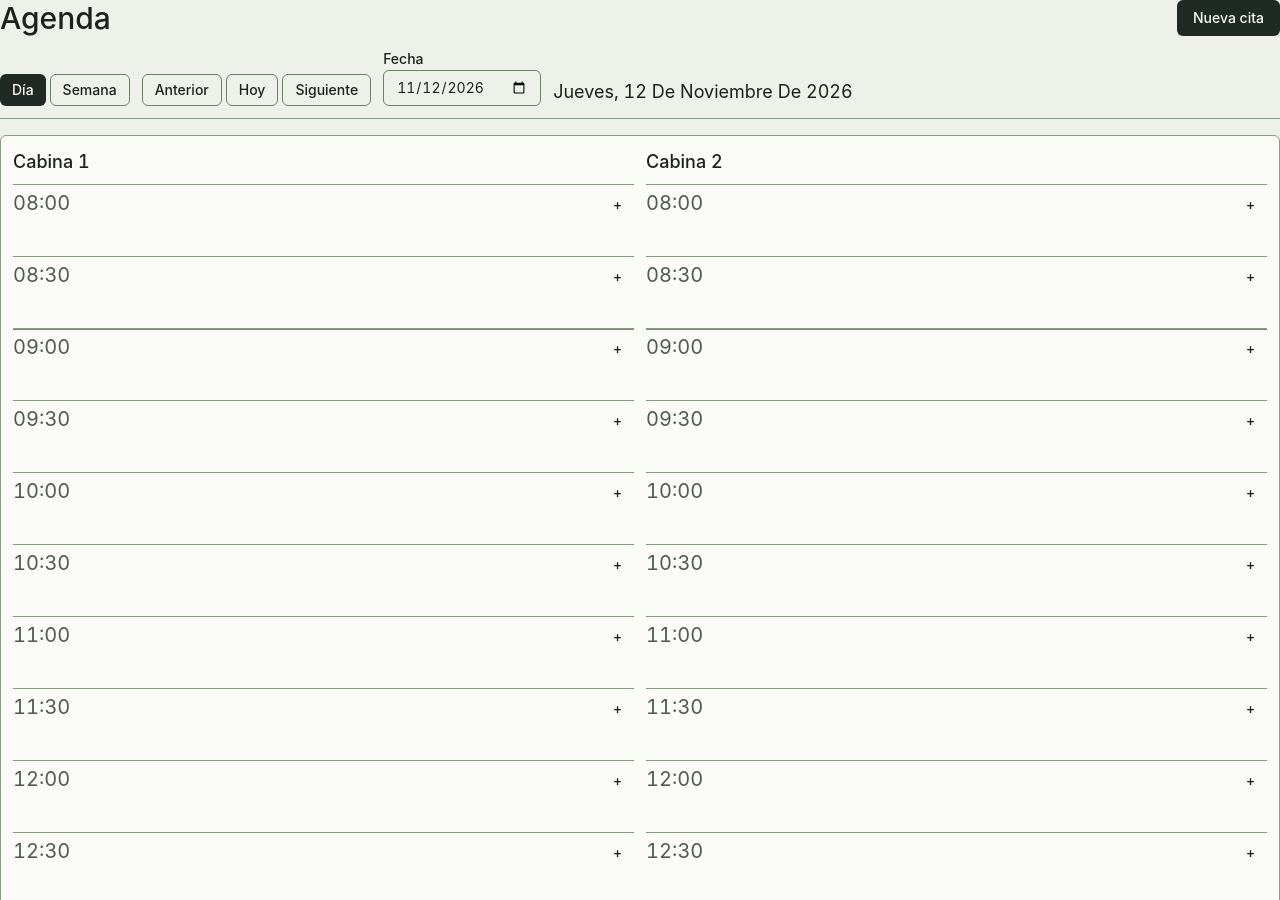
AppointmentsPage › la navegación en vista semana avanza siete días
The width and height of the screenshot is (1280, 900).
What coordinates should you click on to do the following:
click the button "Semana"
I would click on:
 (90, 90)
Its box is [50, 74, 130, 106].
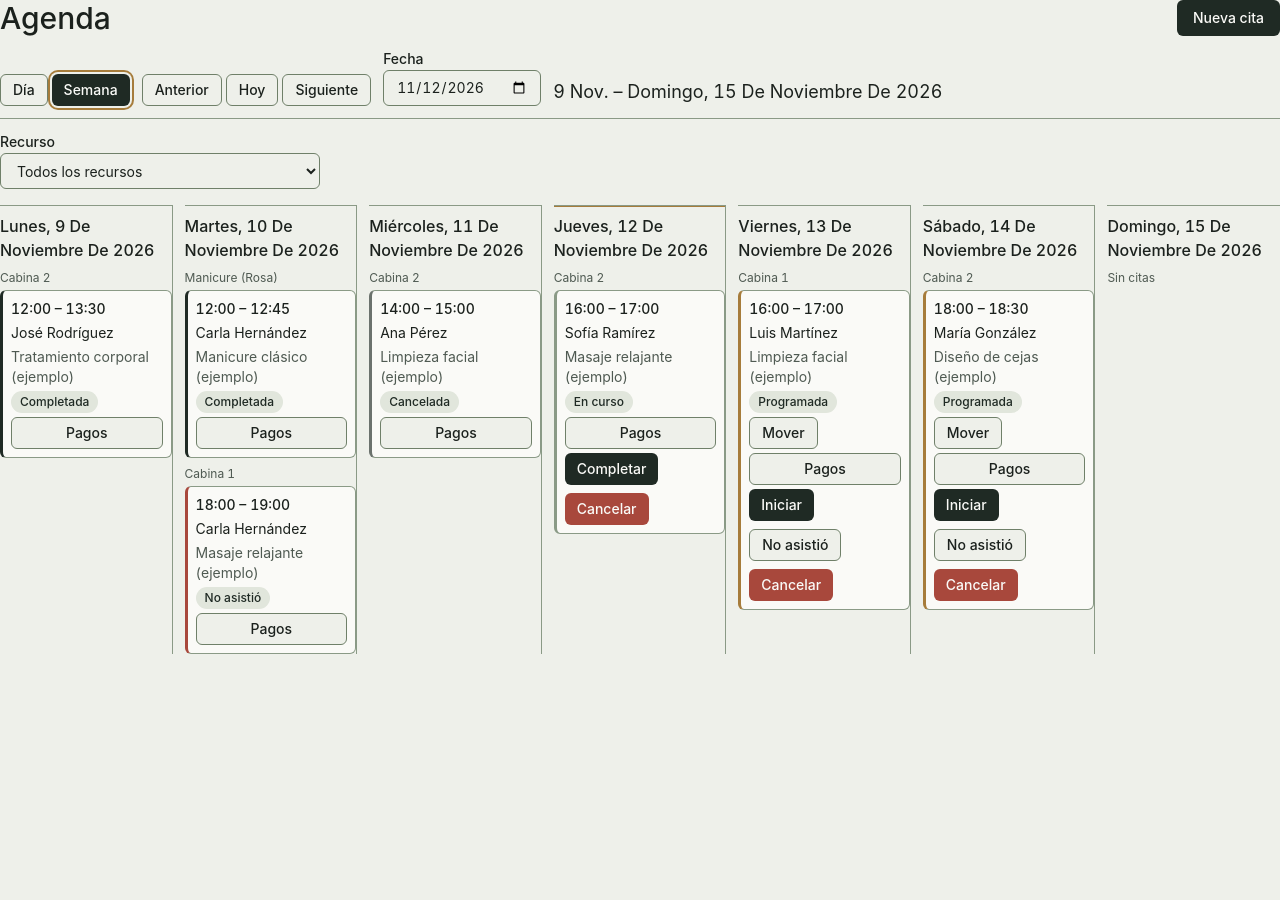
What coordinates should you click on to do the following:
click the button "Siguiente"
I would click on:
 (327, 90)
Its box is [282, 74, 371, 106].
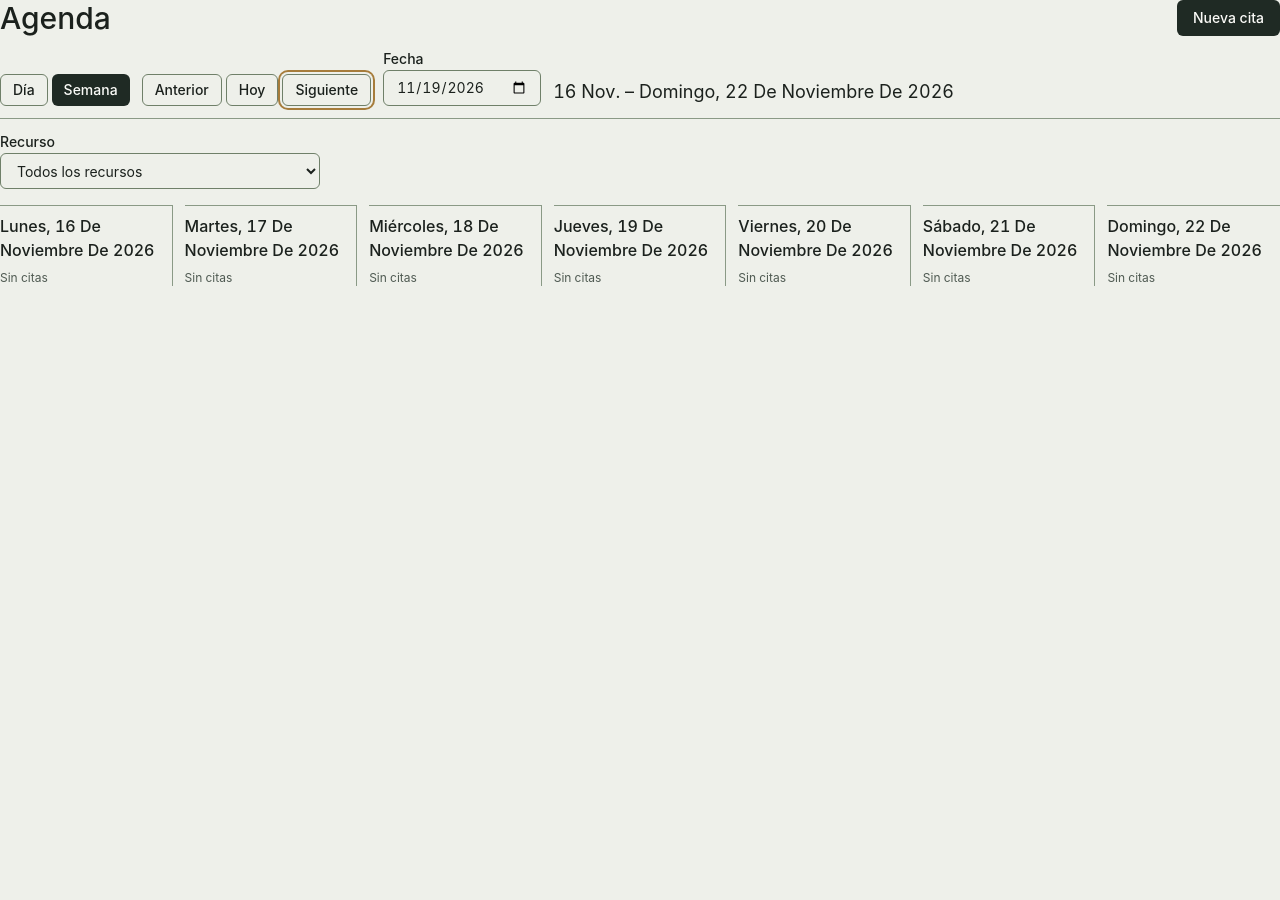
Expected: the date field labelled "Fecha" holds "2026-11-19", [383, 70, 541, 106]
